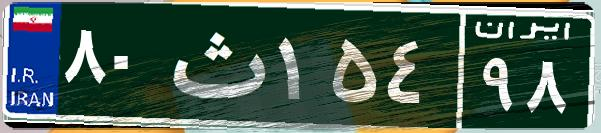0: (110, 28, 158, 105)
1: (273, 28, 330, 110)
4: (385, 28, 445, 110)
5: (330, 28, 385, 110)
8: (57, 26, 110, 107), (525, 38, 570, 115)
9: (475, 38, 525, 113)
ث: (158, 15, 273, 115)
